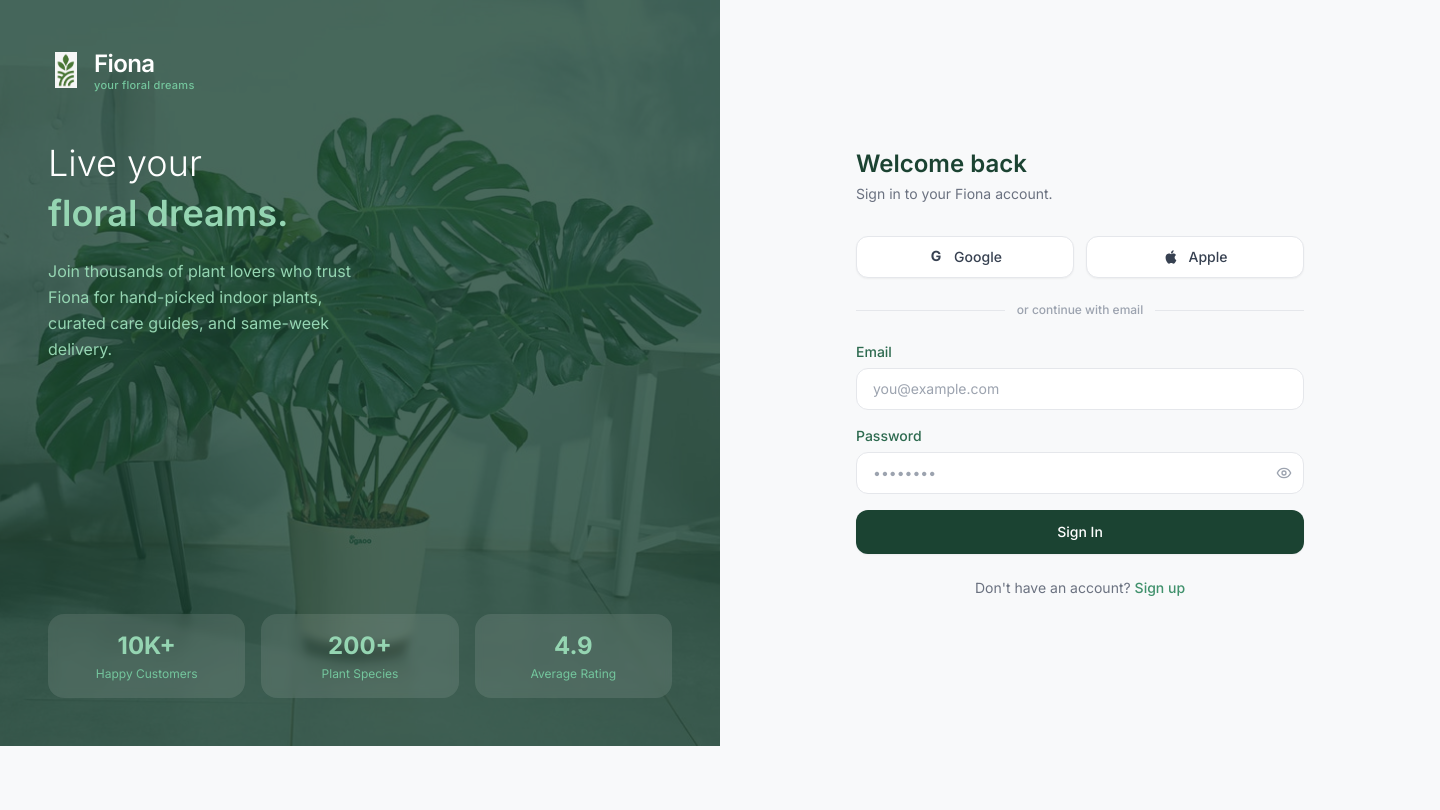
Scenario: Authentication & Security Boundary Exceptions - AuthPage.tsx › EX-AUTH-05: Form Validation with invalid email format › blocks Login submission when email format is "user@", shows inline error, and does not call Supabase
Type "user@" into the field with placeholder "you@example.com" at (1080, 389), box [856, 368, 1304, 410]
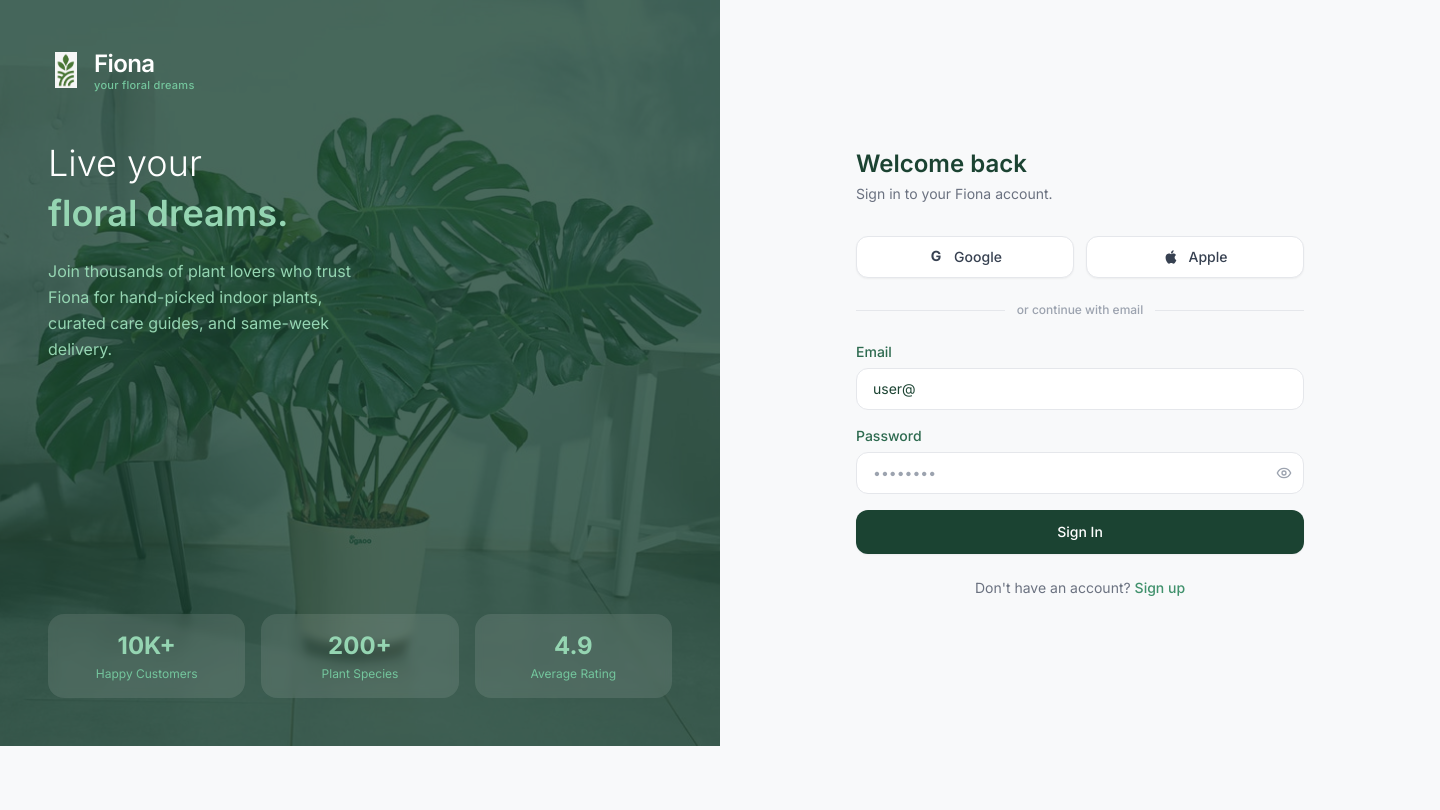
Type "validpassword123" into the password field with placeholder "••••••••" at (1080, 473), box [856, 452, 1304, 494]
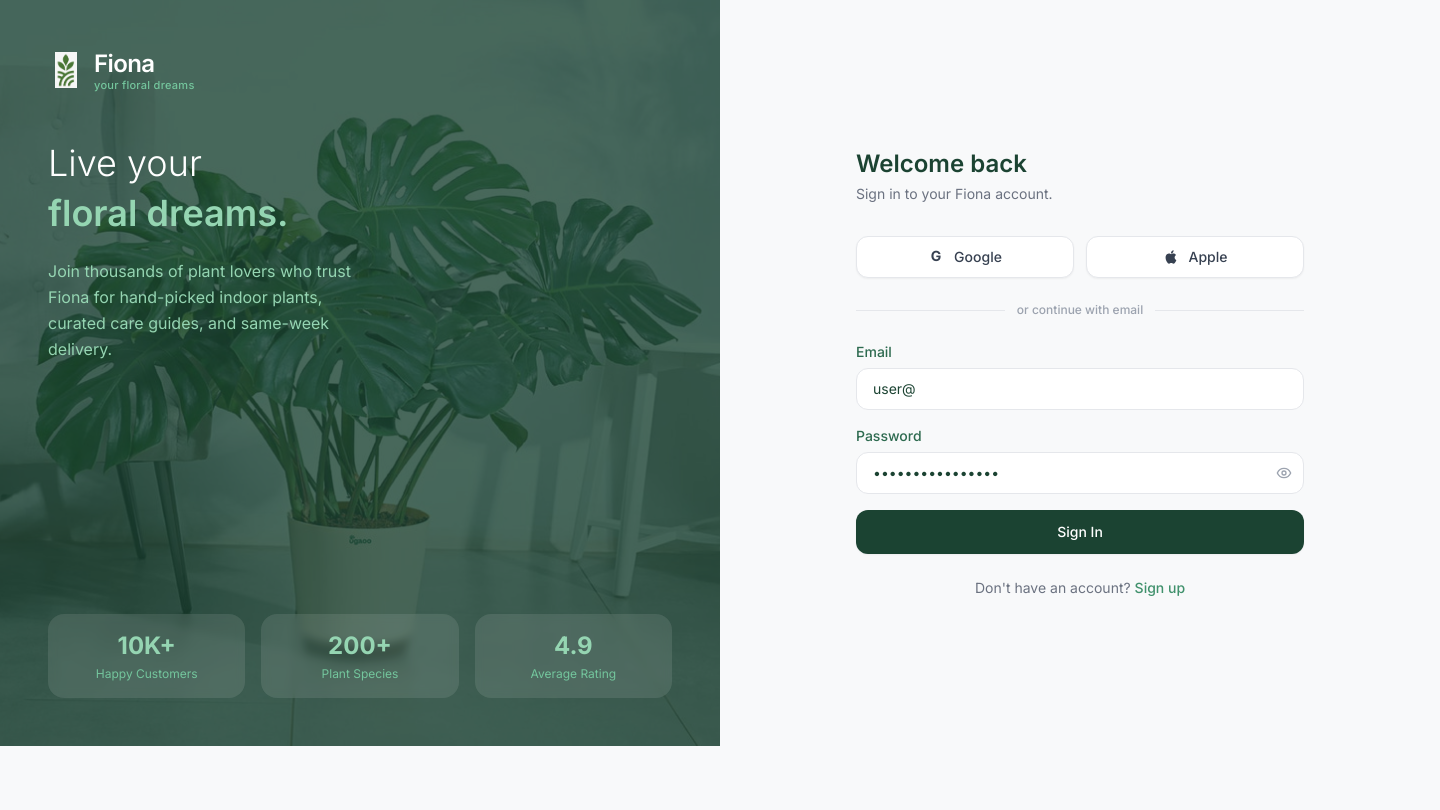
Click the button "Sign In" at (1080, 532), box [856, 510, 1304, 554]
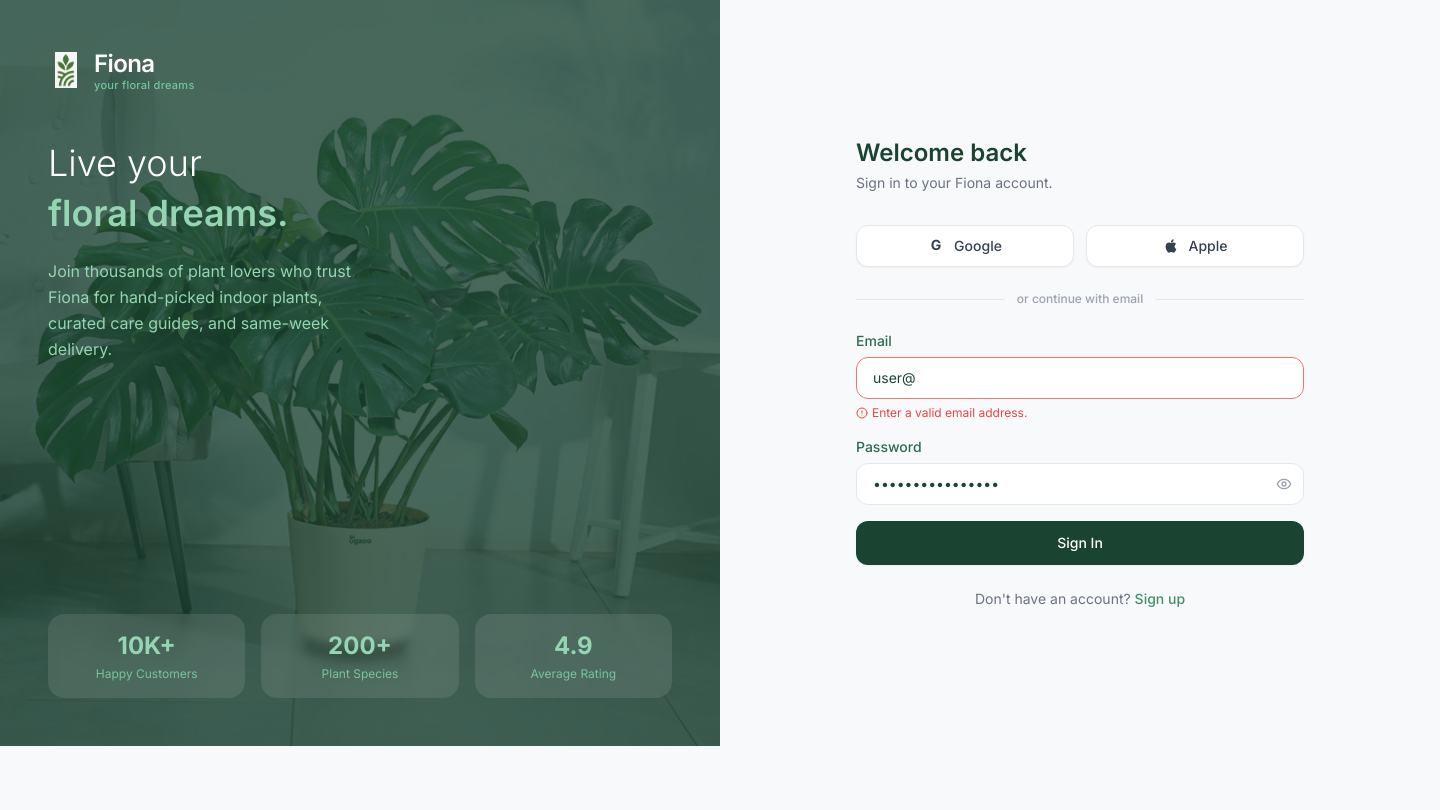
Expected: the text "Enter a valid email address." is shown, [856, 405, 1027, 420]
